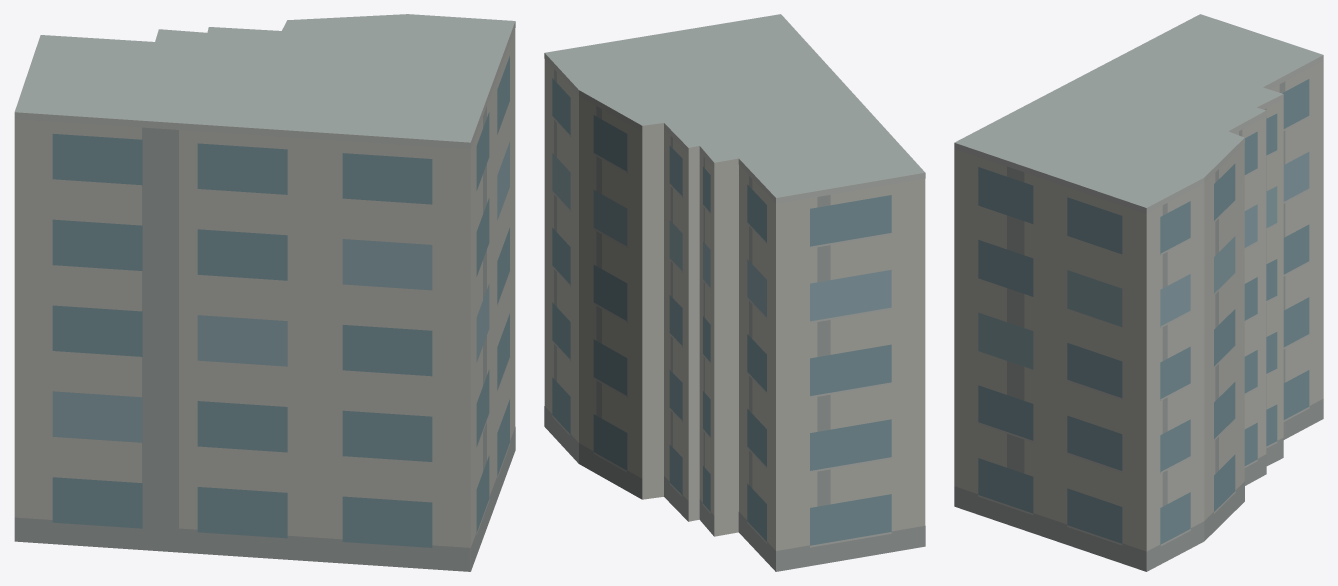
File: survey-upis-32591640.glb
3 views of the same model, side by side, from view 1: azimuth 30°, elevation 25°; view 2: azimuth 150°, elevation 25°; view 3: azimuth 270°, elevation 25° (orthographic). The views are drawn at different scales.
Visible parts, largest first — view 1: survey-upis-32591640.tmp; view 2: survey-upis-32591640.tmp; view 3: survey-upis-32591640.tmp.
Part boxes in pixels (left/top/right/bottom): survey-upis-32591640.tmp: left=14, top=14, right=515, bottom=571; survey-upis-32591640.tmp: left=544, top=14, right=925, bottom=571; survey-upis-32591640.tmp: left=954, top=14, right=1323, bottom=571.
Bounding box in the file's own units: 17.45 × 15.25 × 14.04.
